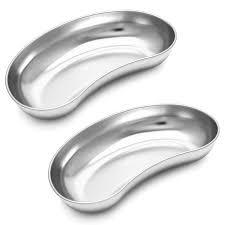Kidney Tray: (45, 99, 225, 214), (5, 8, 188, 110)
